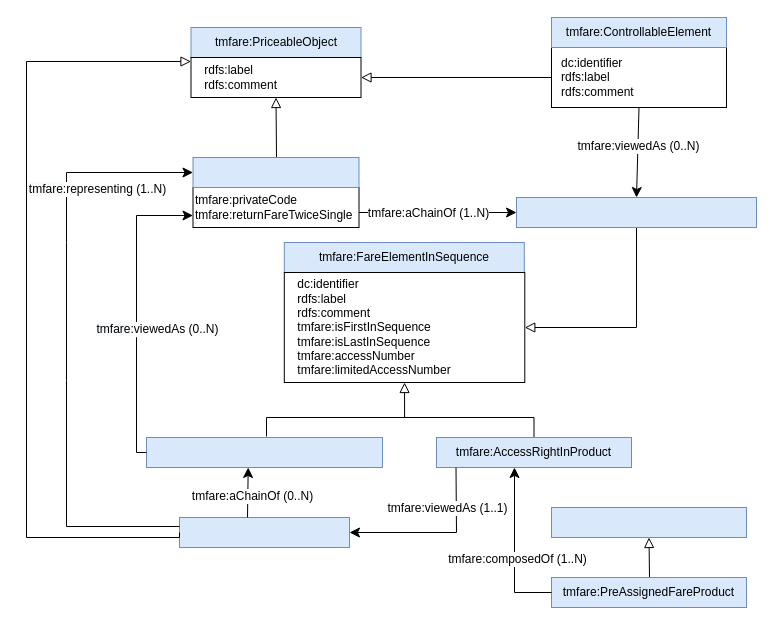
This 774x625 diagram has some shape labels left out. The centre of each missing label's shape, as x and y in pixels:
tmfare:ControllableElementInSequence: point 636,212
tmfare:FareProduct: point 648,522
tmfare:FareStructureElement: point 275,172
tmfare:FareStructureElementInSequence: point 264,452
tmfare:ValidableElement: point 264,532
